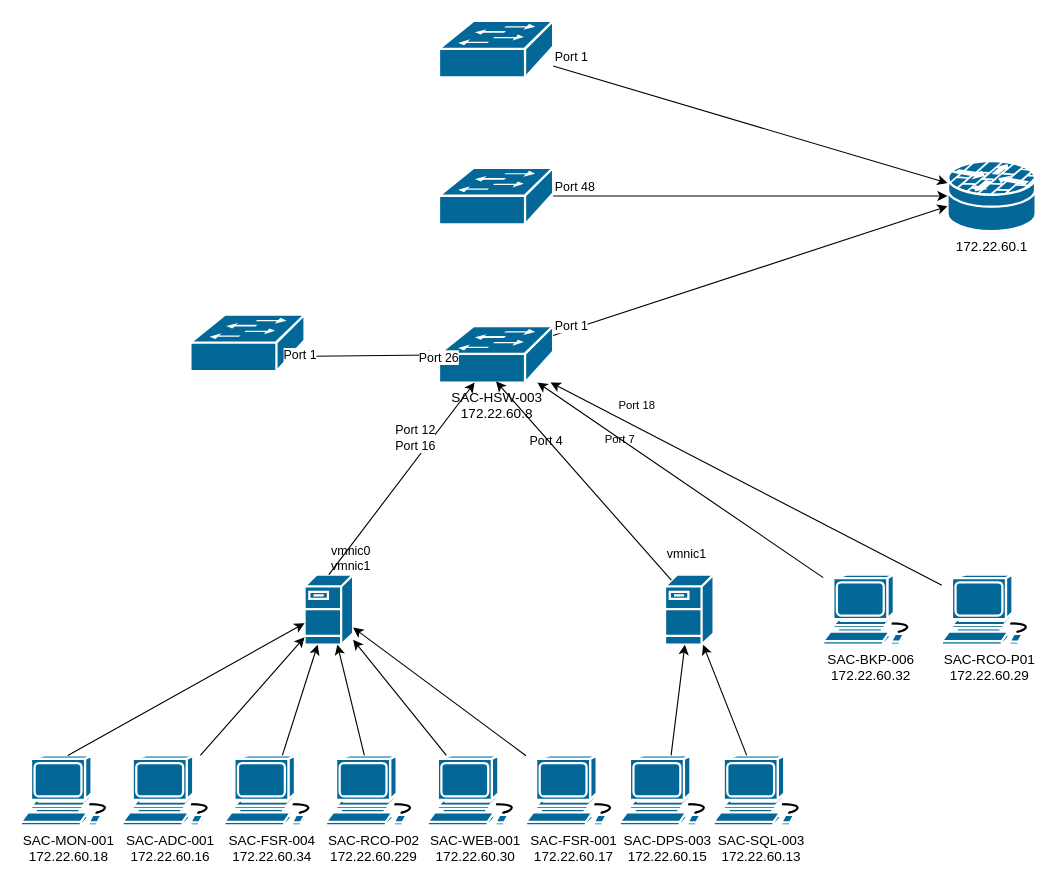
Image size: 1055x885. Some labels were removed from this diagram. Each missing label, with the box of its shape:
SAC-CSW-009 172.22.60.9: (437, 166, 554, 225)
SAC-ESX-002: (303, 573, 354, 645)
SAC-ESX-004: (663, 573, 714, 645)
SAC-HSW-001 172.22.60.50: (437, 19, 554, 78)
SAC-HSW-002 172.22.60.251: (189, 313, 305, 372)
